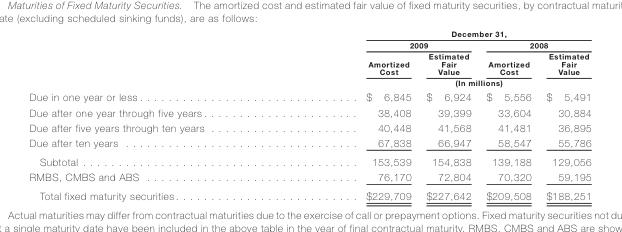table: (28, 28, 590, 201)
table column: (28, 28, 285, 201), (285, 28, 418, 201), (418, 28, 478, 201), (478, 28, 538, 201), (538, 28, 590, 201)
table column header: (28, 28, 590, 89)
table row: (28, 50, 590, 76), (28, 134, 590, 151), (28, 151, 590, 168), (28, 168, 590, 185), (28, 185, 590, 201), (28, 89, 590, 104), (28, 104, 590, 119), (28, 119, 590, 134), (28, 76, 590, 89), (28, 38, 590, 50), (28, 28, 590, 38)
table spanning cell: (285, 76, 590, 89), (285, 28, 590, 38), (285, 38, 478, 50), (478, 38, 590, 50)
